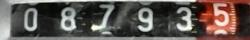digits: (96, 3, 118, 31), (175, 6, 192, 32), (212, 2, 229, 26), (60, 6, 76, 31), (137, 7, 153, 32), (23, 7, 38, 31)
